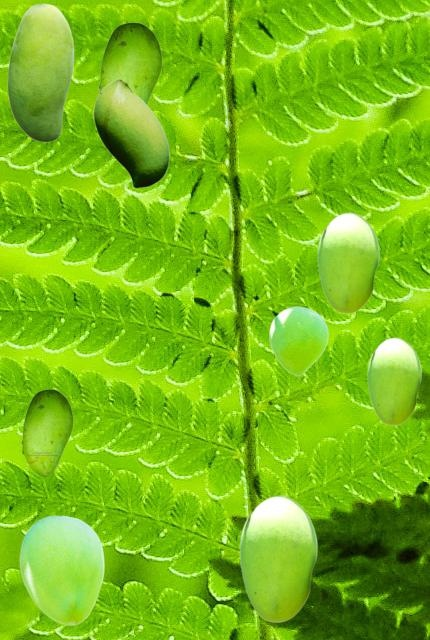green_mango: (239, 495, 316, 621), (19, 515, 103, 624), (7, 3, 73, 141), (93, 78, 168, 187), (317, 212, 378, 312), (98, 22, 161, 103), (367, 337, 420, 424), (21, 389, 72, 476), (269, 306, 327, 375)
